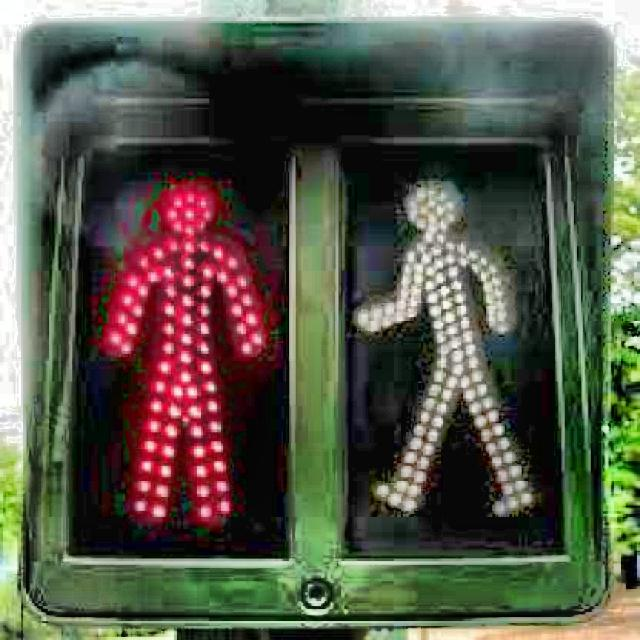semaforo pedestre: (12, 16, 618, 618)
